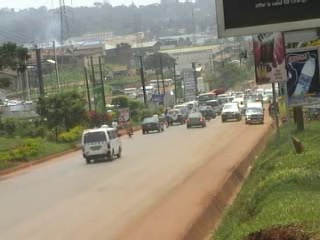Car: (139, 113, 166, 136), (164, 107, 187, 127), (184, 112, 207, 131), (204, 96, 222, 116), (229, 96, 247, 113), (199, 104, 216, 120)
Motorcycle: (123, 118, 135, 140), (204, 106, 212, 122)
